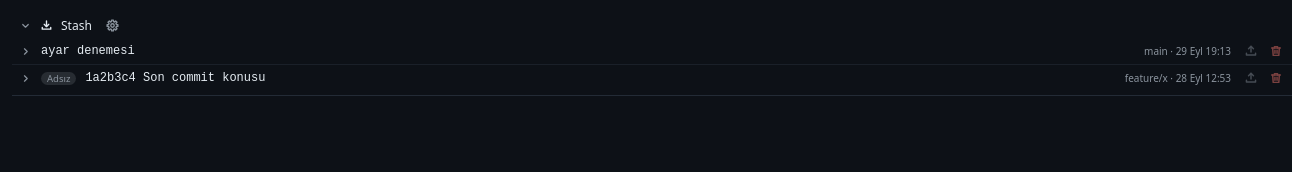
Test: içerik › klasör ön eki 'Klasör yollarını göster' ayarına uyuyor
Step 1. Click the button with class "git-row" that starts with "ayar denemesi" → (88, 51), box [12,38,1239,64]
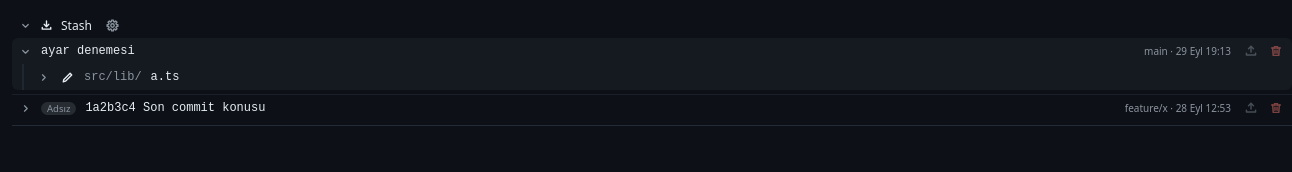
Result: the text with class "git-path" reads "a.ts" at [151,70,179,84]
Result: the text with class "git-dir" reads "src/lib/" at [84,70,142,84]
